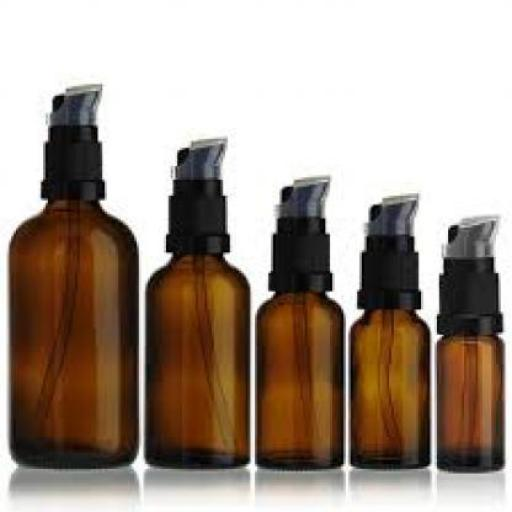glass: (6, 198, 137, 469), (143, 250, 248, 469), (252, 289, 344, 469), (348, 308, 428, 466), (435, 332, 503, 474)
plastic: (264, 172, 332, 290), (437, 212, 501, 332), (354, 192, 418, 310), (39, 81, 103, 198), (164, 134, 228, 250)
